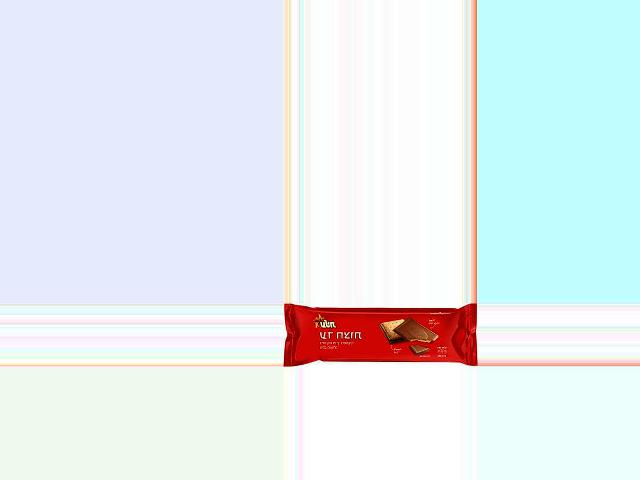chocolate: (288, 303, 475, 367)
